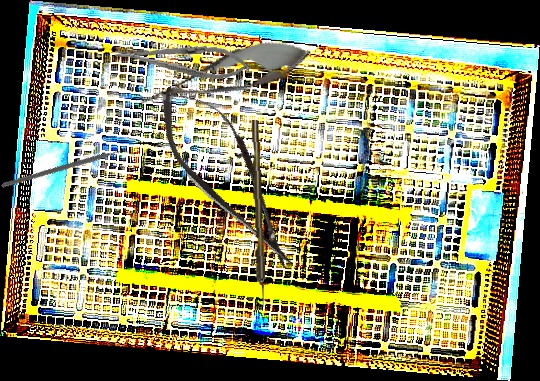Chopper: (0, 101, 136, 240)
Hook Surgical: (250, 119, 267, 308)
Micro Scissor: (140, 68, 317, 285), (133, 28, 317, 123)
Needle Holder: (113, 36, 252, 83)
